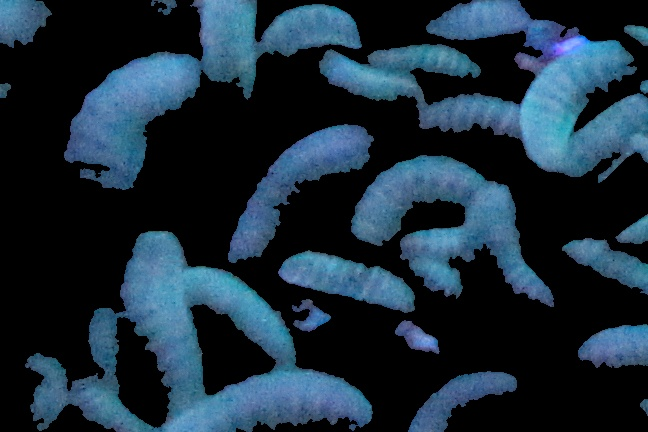larvae: (55, 45, 206, 211), (232, 125, 393, 270), (460, 175, 563, 320), (121, 233, 206, 405), (524, 39, 639, 164), (355, 158, 486, 256), (188, 371, 370, 432), (66, 309, 151, 432), (185, 268, 292, 365), (401, 362, 521, 432), (273, 254, 423, 309), (317, 47, 427, 118), (414, 89, 532, 145), (255, 6, 375, 56), (198, 1, 256, 104), (575, 95, 648, 176), (368, 45, 508, 87), (559, 234, 648, 292), (415, 3, 536, 35), (578, 324, 648, 372), (409, 251, 466, 298)
